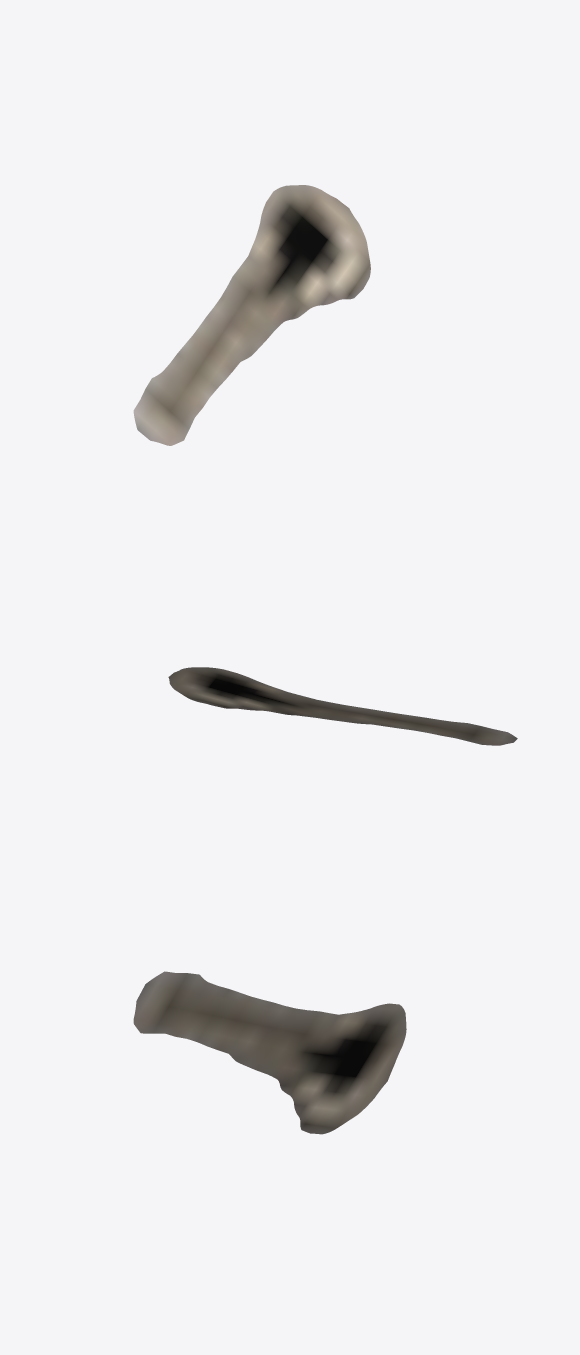
File: Peak_Collar Kaaj.glb
3 views of the same model, one above another, from view 1: azimuth 30°, elevation 25°; view 2: azimuth 150°, elevation 25°; view 3: azimuth 270°, elevation 25° (orthographic). The views are drawn at different scales.
Visible parts, largest first — view 1: Peak_Kaaj; view 2: Peak_Kaaj; view 3: Peak_Kaaj.
Boxes of the visible parts, box(x1,y1,x2,y2) form: Peak_Kaaj: box(133, 185, 370, 445); Peak_Kaaj: box(168, 667, 517, 745); Peak_Kaaj: box(133, 971, 406, 1134).
Bounding box in the file's own units: 0.00422 × 0.00227 × 0.00281.
1 material, 1 textured.
